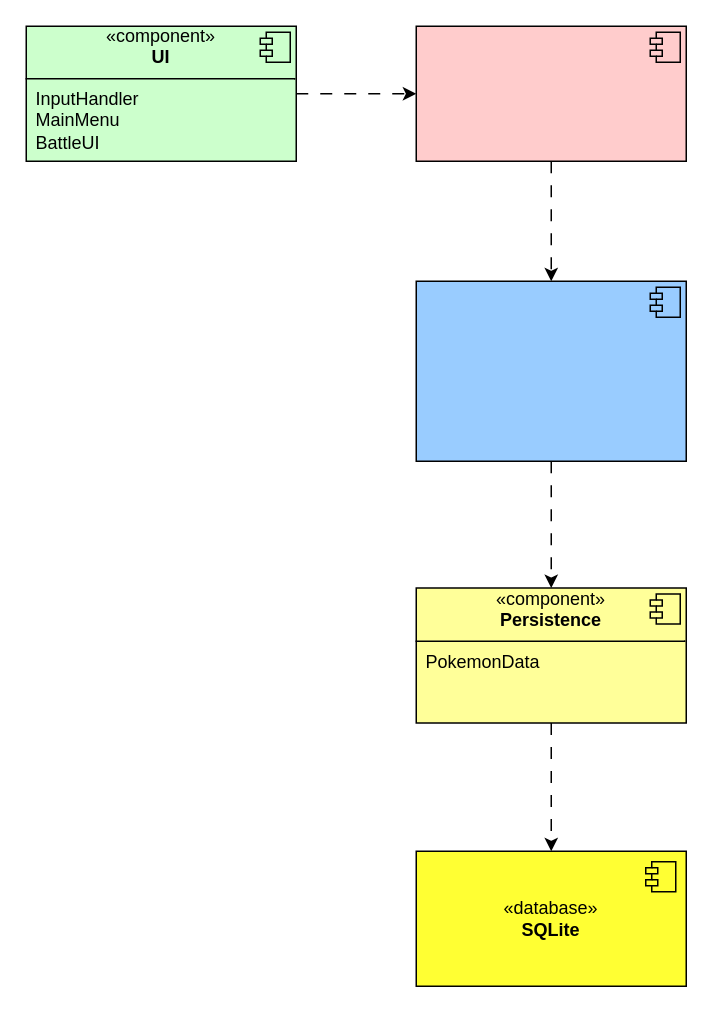
The diagram is 713 pixels wide and 1013 high, and some of its shapes have lost their labels. Here are the shapes that lost their labels. From the top down, the box of each, then its label:
(415, 25, 686, 161): «component» Application GameFlow
(415, 280, 686, 461): «component» Domain Attack PokemonProfile Pokemon Battle BattleParticipant
